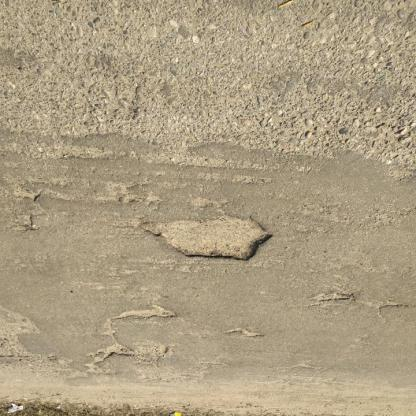pothole: (142, 217, 276, 266), (88, 345, 137, 368), (109, 311, 181, 322)
